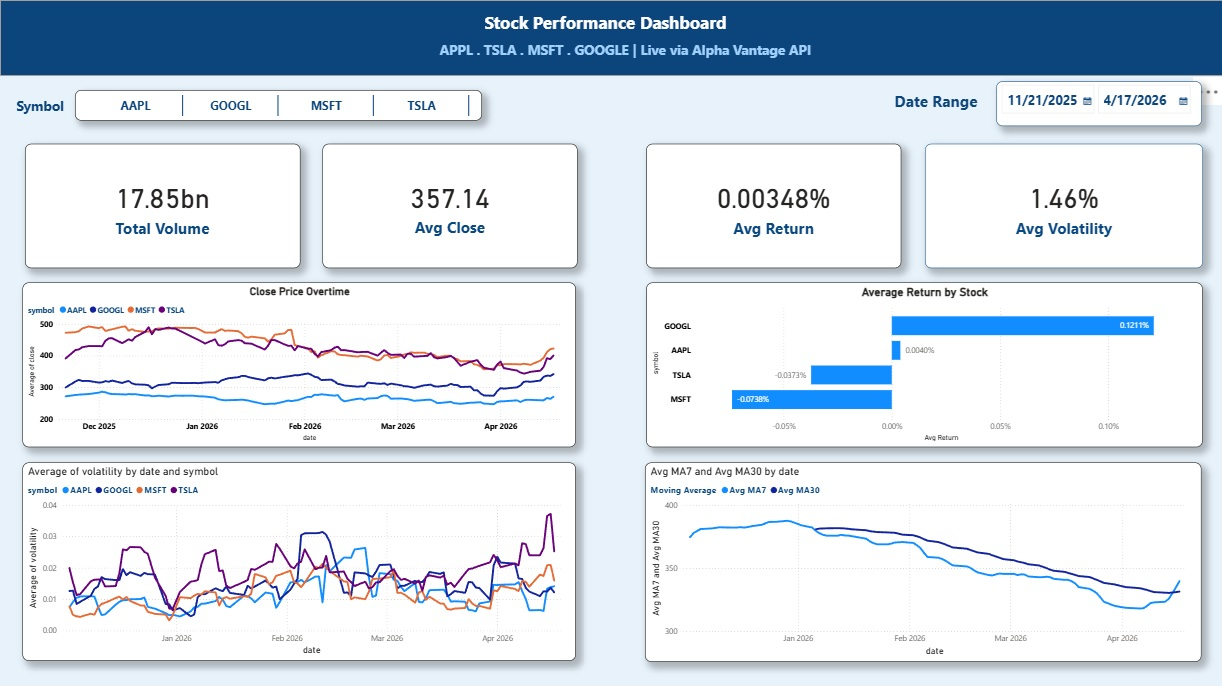

This screenshot's page, from the dashboard's own definition file:
{"tool":"powerbi","page":{"name":"Main","canvas":[1920,1080],"ordinal":0},"visuals":[{"type":"lineChart","title":"Close Price Overtime","fields":{"Y":["Avg(public fact_stock_prices.close)"],"Series":["public fact_stock_prices.symbol"],"Category":["public fact_stock_prices.date"]},"box":[36.3,443.7,868.3,258.1],"z":0},{"type":"barChart","title":"Average Return by Stock","fields":{"Category":["public fact_stock_prices.symbol"],"Y":["measures_ (2).Avg Return"]},"box":[1013.3,443.7,872.5,258.1],"z":1000},{"type":"slicer","fields":{"Values":["public fact_stock_prices.symbol"]},"box":[116.7,141.7,638.3,48.3],"z":2000},{"type":"lineChart","fields":{"Category":["public fact_stock_prices.date.Variation.Date Hierarchy.Year"],"Y":["Avg(public fact_stock_prices.volatility)"],"Series":["public fact_stock_prices.symbol"]},"box":[36.3,725.3,868.3,311.5],"z":3000},{"type":"shape","box":[0,0,1920,119.5],"z":4000},{"type":"textbox","box":[755.6,11.1,407.4,48.1],"z":5000},{"type":"textbox","box":[685.2,59.3,727.8,48.1],"z":6000},{"type":"slicer","fields":{"Values":["DIM calendar.Date"]},"box":[1563,127.8,322.2,70.4],"z":7000},{"type":"textbox","box":[26.2,150,90,48.8],"z":8000},{"type":"textbox","box":[1398.1,137,164.8,51.9],"z":9000},{"type":"lineChart","fields":{"Category":["public fact_stock_prices.date"],"Y":["measures_ (2).Avg MA7","measures_ (2).Avg MA30"]},"box":[1012.5,725,872.5,312.5],"z":9001},{"type":"card","fields":{"Values":["measures_ (2).Total Volume"]},"box":[38.6,225,431.8,195.5],"z":9002},{"type":"card","fields":{"Values":["measures_ (2).Avg Close"]},"box":[505,225,400,195],"z":9003},{"type":"card","fields":{"Values":["measures_ (2).Avg Return"]},"box":[1013.6,225,400,195.5],"z":9004},{"type":"card","fields":{"Values":["measures_ (2).Avg Volatility"]},"box":[1450,225,436.4,195.5],"z":9005}]}

Visuals, with their boxes in screenshot pixels (x1, y1, x2, y2), scaled from the page's 1920x1080 canvas onto the 1222x686 screenshot:
"Close Price Overtime" lineChart: 23, 282, 576, 446
"Average Return by Stock" barChart: 645, 282, 1200, 446
slicer - public fact_stock_prices.symbol: 74, 90, 481, 121
lineChart - public fact_stock_prices.date.Variation.Date Hierarchy.Year x Avg(public fact_stock_prices.volatility): 23, 461, 576, 659
shape: 0, 0, 1221, 76
textbox: 481, 7, 740, 38
textbox: 436, 38, 899, 68
slicer - DIM calendar.Date: 995, 81, 1200, 126
textbox: 17, 95, 74, 126
textbox: 890, 87, 995, 120
lineChart - public fact_stock_prices.date x measures_ (2).Avg MA7: 644, 461, 1200, 659
card - measures_ (2).Total Volume: 25, 143, 299, 267
card - measures_ (2).Avg Close: 321, 143, 576, 267
card - measures_ (2).Avg Return: 645, 143, 900, 267
card - measures_ (2).Avg Volatility: 923, 143, 1201, 267
